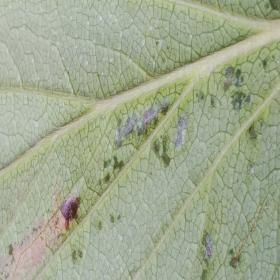Angular Leafspot: (0, 35, 279, 279)
